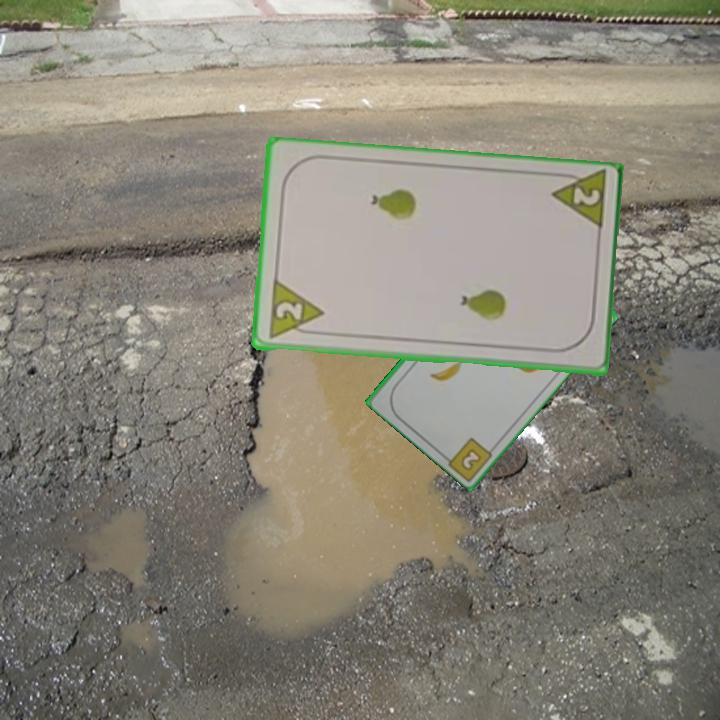2b: (457, 444, 485, 473)
2p: (264, 277, 326, 343), (546, 169, 608, 235)
